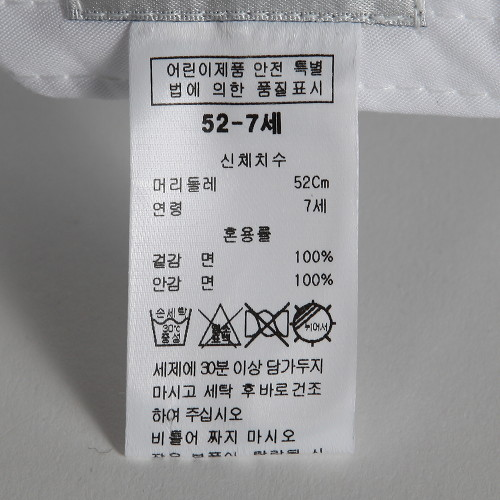KR_flat_dry_in_shade: (292, 299, 334, 346)
KR_hand_wash_30_neutral: (148, 302, 192, 348)
KR_no_chlorine_bleach: (196, 302, 242, 350)
KR_no_wring: (245, 304, 292, 344)
